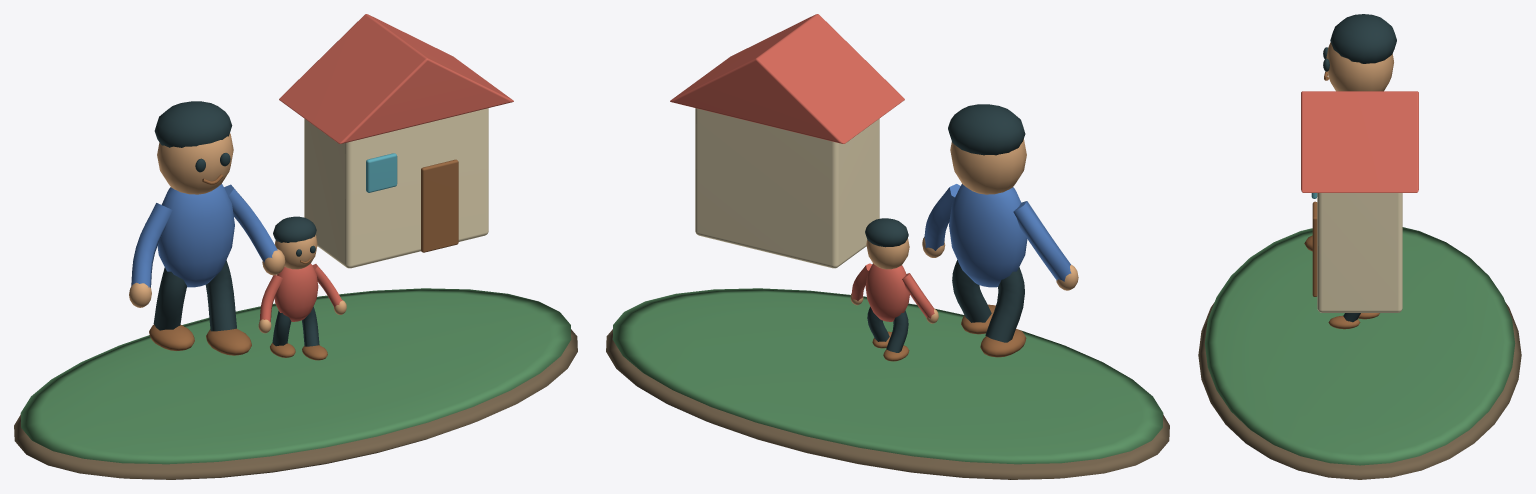
Rendered from complete-second-father-parent.glb.
The picture shows the model from 3 angles, left to right: view 1: azimuth 30°, elevation 25°; view 2: azimuth 150°, elevation 25°; view 3: azimuth 270°, elevation 25°; orthographic projection. The views are drawn at different scales.
Parts seen in each view (by area): view 1: complete-second-father-parent_surface_01, complete-second-father-parent_surface_07, complete-second-father-parent_surface_06, complete-second-father-parent_surface_00, complete-second-father-parent_surface_05, complete-second-father-parent_surface_03, complete-second-father-parent_surface_04, complete-second-father-parent_surface_02, complete-second-father-parent_surface_08; view 2: complete-second-father-parent_surface_01, complete-second-father-parent_surface_06, complete-second-father-parent_surface_07, complete-second-father-parent_surface_00, complete-second-father-parent_surface_05, complete-second-father-parent_surface_03, complete-second-father-parent_surface_02, complete-second-father-parent_surface_04; view 3: complete-second-father-parent_surface_01, complete-second-father-parent_surface_07, complete-second-father-parent_surface_06, complete-second-father-parent_surface_00, complete-second-father-parent_surface_03, complete-second-father-parent_surface_02, complete-second-father-parent_surface_04.
Part boxes in pixels (box(x1,y1,x2,y2)): complete-second-father-parent_surface_01: box(20, 288, 571, 464); complete-second-father-parent_surface_07: box(259, 14, 513, 321); complete-second-father-parent_surface_06: box(304, 108, 488, 268); complete-second-father-parent_surface_00: box(14, 329, 577, 479); complete-second-father-parent_surface_05: box(131, 184, 277, 287); complete-second-father-parent_surface_03: box(153, 101, 319, 346); complete-second-father-parent_surface_04: box(149, 159, 458, 360); complete-second-father-parent_surface_02: box(129, 133, 346, 333); complete-second-father-parent_surface_08: box(366, 153, 397, 192); complete-second-father-parent_surface_01: box(612, 288, 1163, 464); complete-second-father-parent_surface_06: box(695, 108, 879, 268); complete-second-father-parent_surface_07: box(670, 14, 934, 321); complete-second-father-parent_surface_00: box(606, 329, 1169, 479); complete-second-father-parent_surface_05: box(924, 184, 1071, 287); complete-second-father-parent_surface_03: box(865, 104, 1025, 352); complete-second-father-parent_surface_02: box(850, 139, 1078, 323); complete-second-father-parent_surface_04: box(872, 304, 1026, 361); complete-second-father-parent_surface_01: box(1204, 227, 1515, 465); complete-second-father-parent_surface_07: box(1301, 91, 1418, 192); complete-second-father-parent_surface_06: box(1317, 193, 1402, 312); complete-second-father-parent_surface_00: box(1198, 302, 1521, 479); complete-second-father-parent_surface_03: box(1323, 14, 1396, 322); complete-second-father-parent_surface_02: box(1326, 42, 1393, 91); complete-second-father-parent_surface_04: box(1304, 71, 1379, 329).
Bounding box in the file's own units: 4.56 × 2.78 × 2.5.
